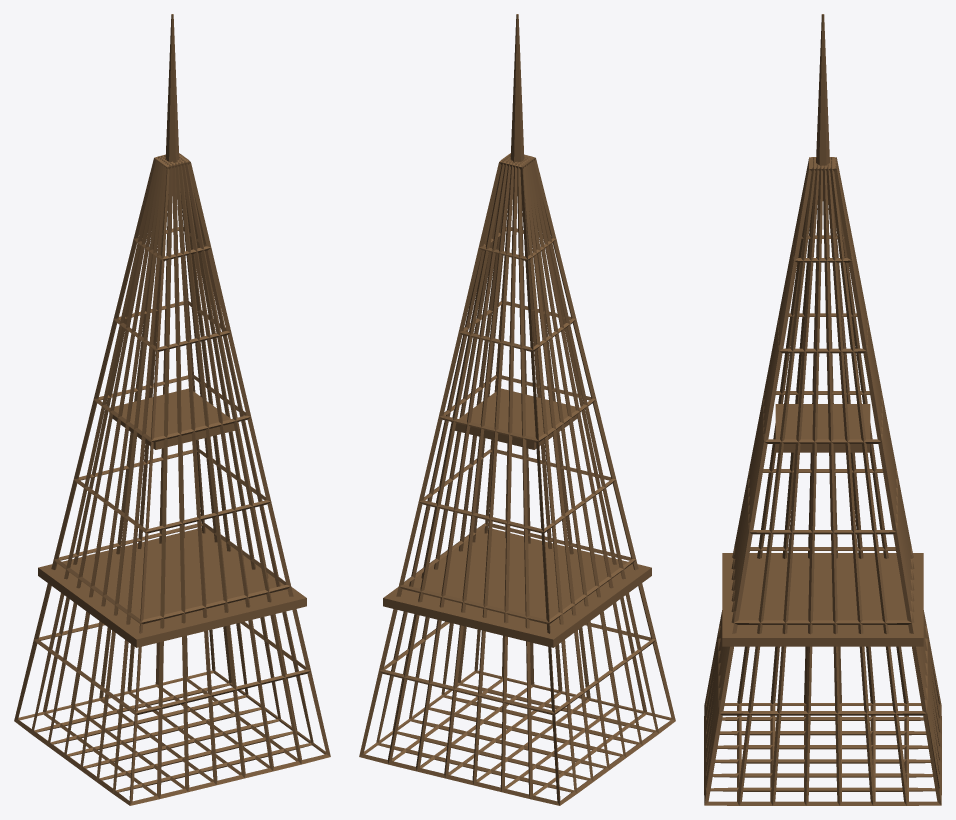
File: torre-eiffel.glb
3 renders of one model, left to right at view 1: azimuth 30°, elevation 25°; view 2: azimuth 150°, elevation 25°; view 3: azimuth 270°, elevation 25°, orthographic. The views are drawn at different scales.
Visible parts, largest first — view 1: torre-eiffel; view 2: torre-eiffel; view 3: torre-eiffel.
Boxes of the visible parts, x1,y1,x2,y2 form: torre-eiffel: (14, 14, 330, 805); torre-eiffel: (359, 14, 675, 805); torre-eiffel: (704, 14, 941, 805).
Size of the model in its own units: 40.21 by 138 by 40.21.
